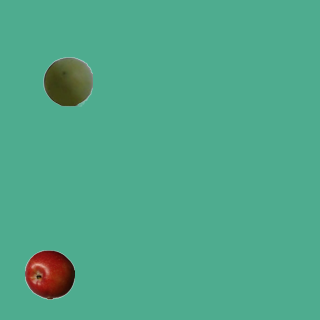Apple Braeburn: (24, 249, 74, 299)
Grape White 4: (42, 56, 92, 106)
